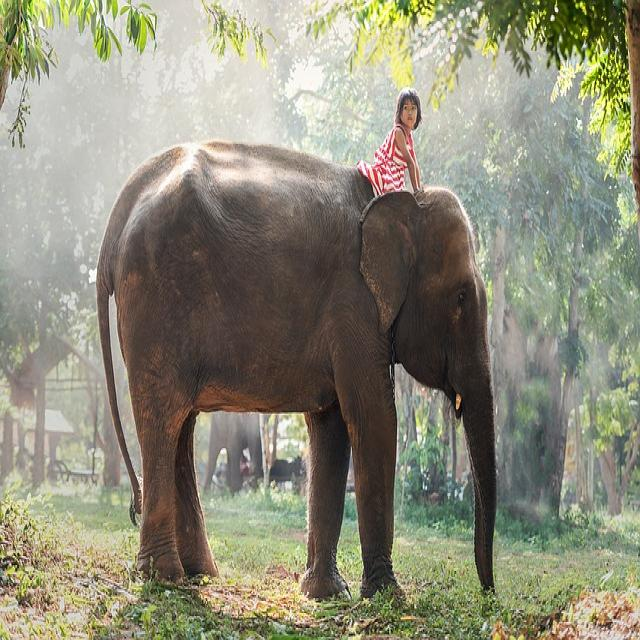elephant: (96, 144, 494, 598)
